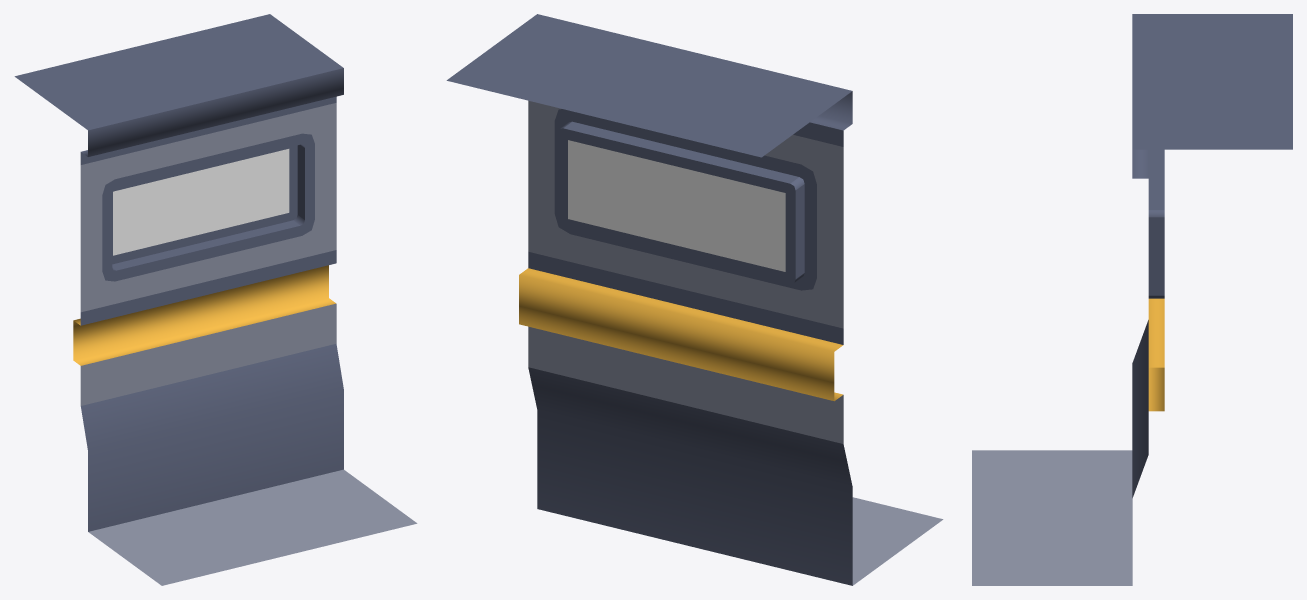
The model's file is StructureWindowWide-transformed.glb.
The picture shows the model from 3 angles, left to right: view 1: azimuth 30°, elevation 25°; view 2: azimuth 150°, elevation 25°; view 3: azimuth 270°, elevation 25°; orthographic projection. The views are drawn at different scales.
Parts seen in each view (by area): view 1: structure-window-wide; view 2: structure-window-wide; view 3: structure-window-wide.
Boxes of the visible parts, bbox=[...] form: structure-window-wide: bbox=[14, 14, 417, 585]; structure-window-wide: bbox=[446, 14, 943, 585]; structure-window-wide: bbox=[972, 14, 1292, 585].
Size of the model in its own units: 2 by 3 by 2.
